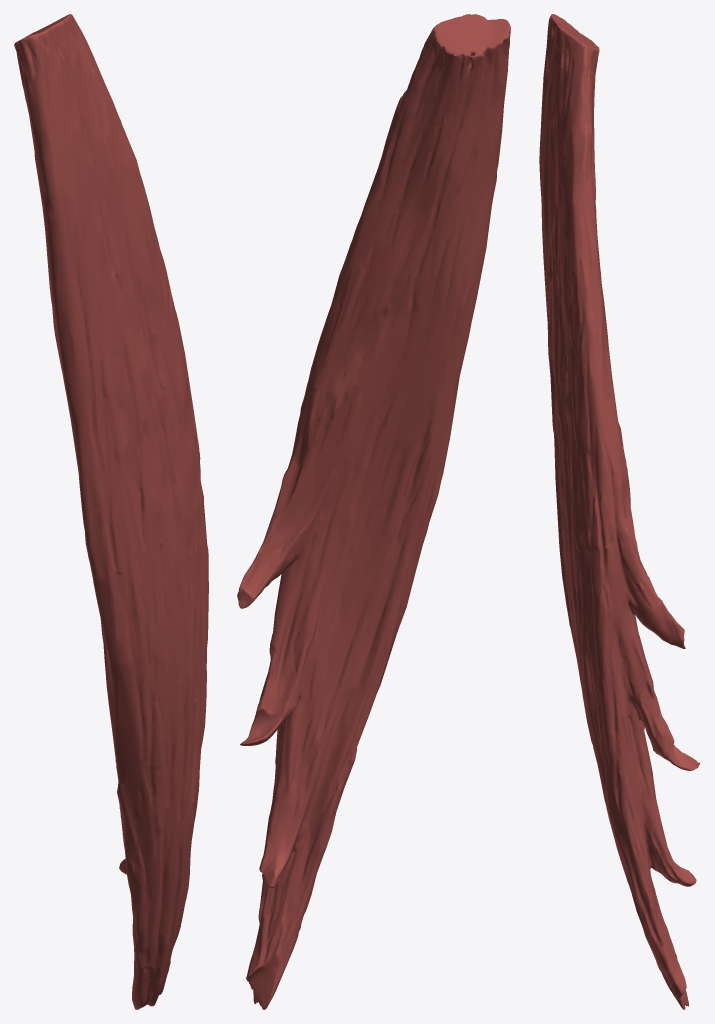
The model's file is FMA46310.glb.
The picture shows the model from 3 angles, left to right: view 1: azimuth 30°, elevation 25°; view 2: azimuth 150°, elevation 25°; view 3: azimuth 270°, elevation 25°; orthographic projection. The views are drawn at different scales.
Visible parts, largest first — view 1: FMA46310; view 2: FMA46310; view 3: FMA46310.
Boxes of the visible parts, bbox=[...] form: FMA46310: bbox=[14, 14, 208, 1009]; FMA46310: bbox=[237, 14, 510, 1009]; FMA46310: bbox=[539, 14, 700, 1009].
Size of the model in its own units: 0.0236 by 0.1065 by 0.017.
